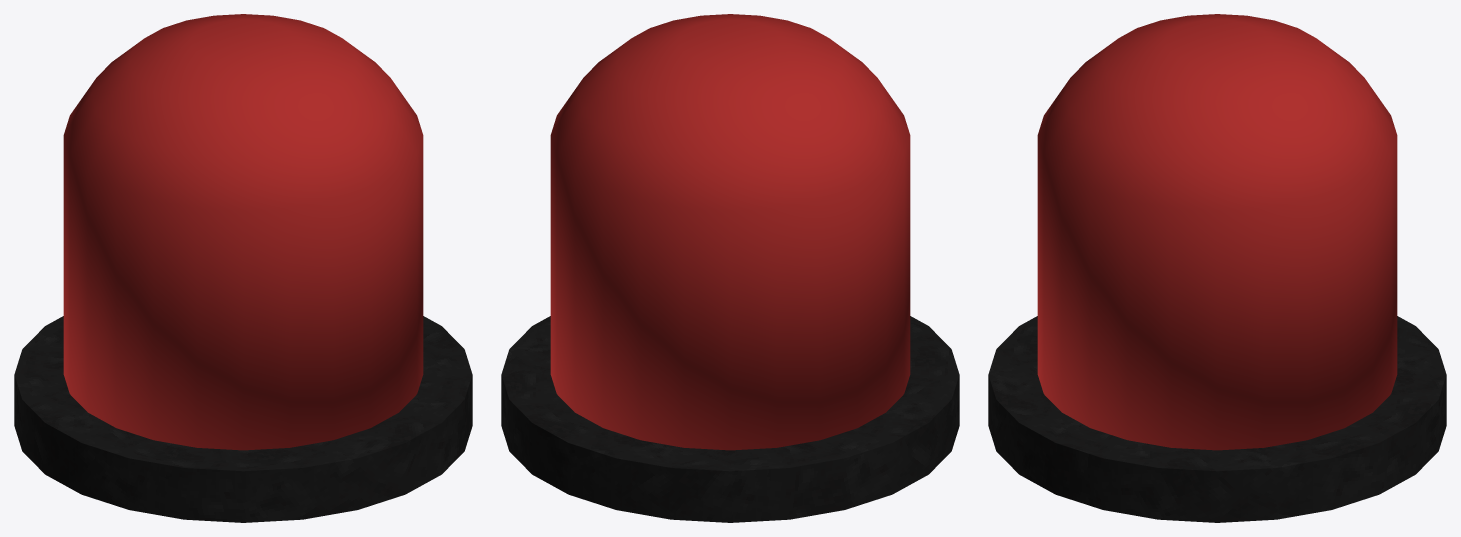
Rendered from alarm_light.glb.
The picture shows the model from 3 angles, left to right: view 1: azimuth 30°, elevation 25°; view 2: azimuth 150°, elevation 25°; view 3: azimuth 270°, elevation 25°; orthographic projection.
Visible parts, largest first — view 1: Glass, AlarmLight; view 2: Glass, AlarmLight; view 3: Glass, AlarmLight.
Boxes of the visible parts, <box> form: Glass: <box>63,14,423,450</box>; AlarmLight: <box>14,316,472,522</box>; Glass: <box>550,14,910,450</box>; AlarmLight: <box>501,316,959,522</box>; Glass: <box>1037,14,1397,450</box>; AlarmLight: <box>988,316,1446,522</box>.
Bounding box in the file's own units: 0.08 × 0.074 × 0.08.
3 materials, 1 textured.
